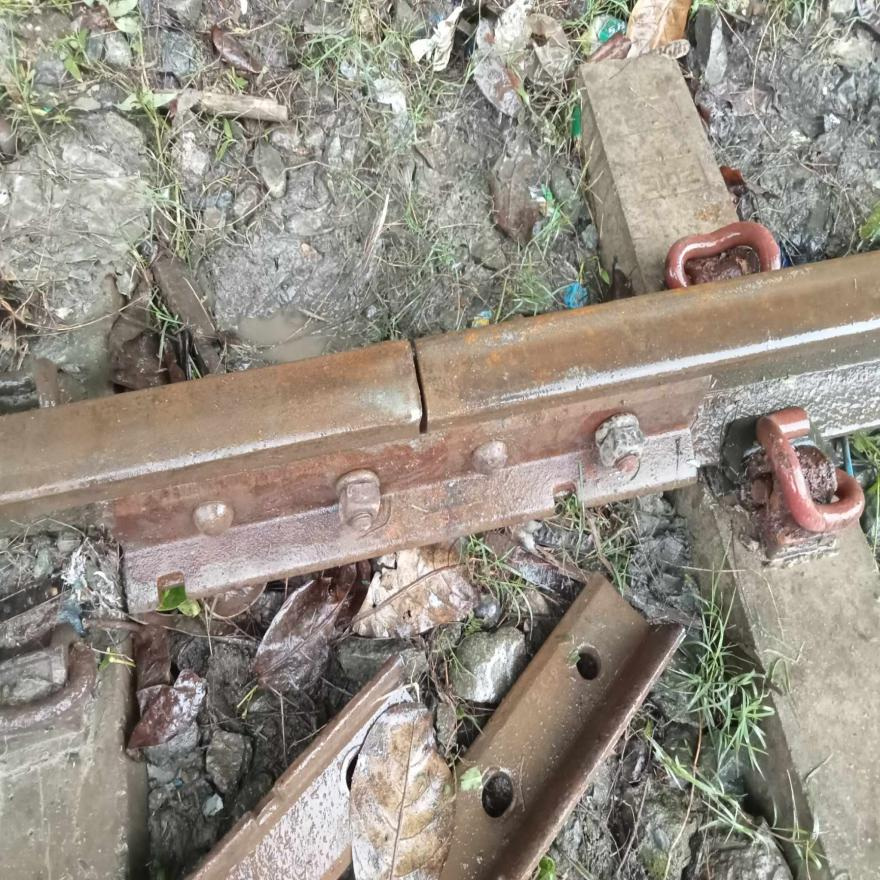railway-gap: (364, 306, 477, 460)
